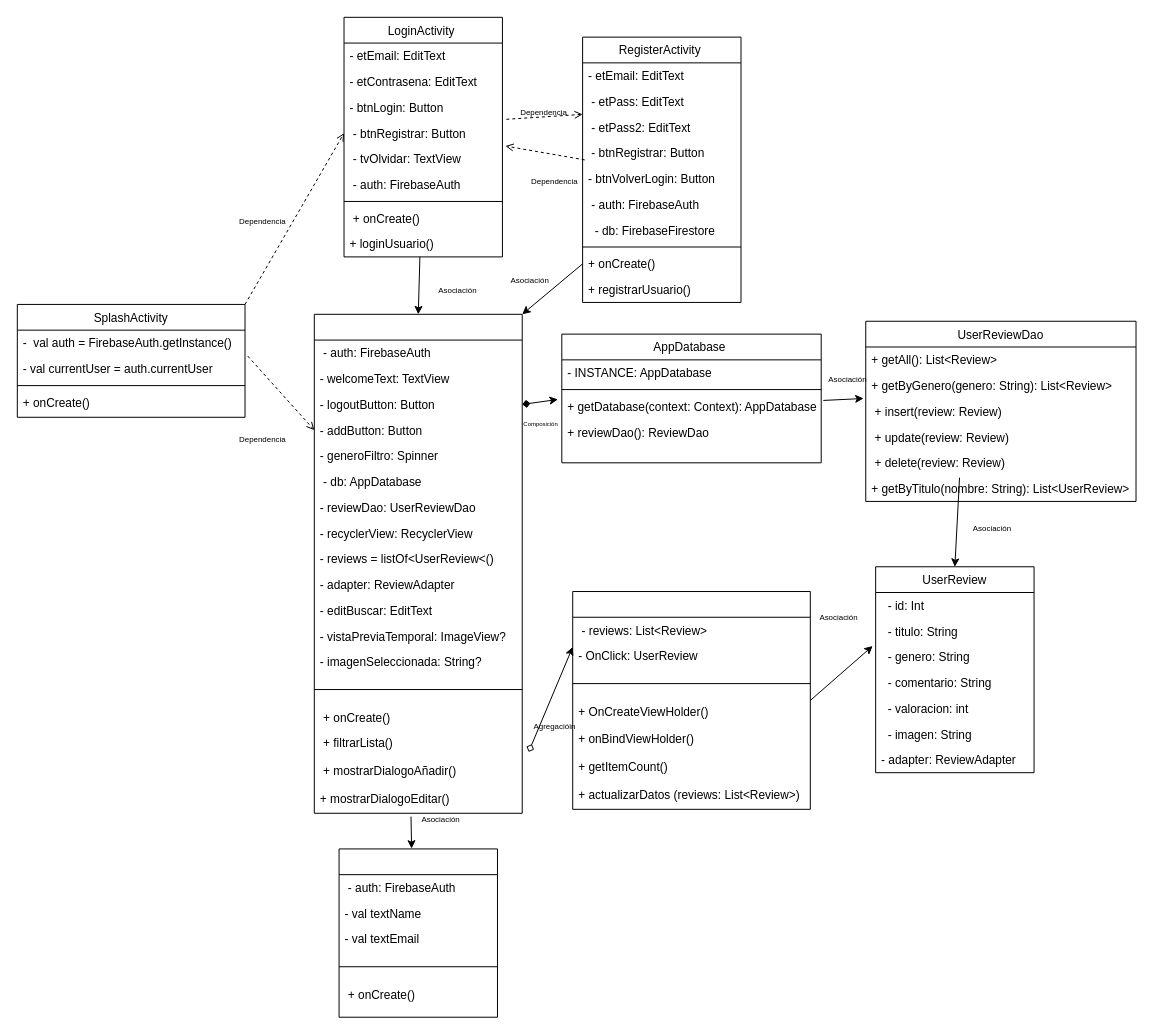
The diagram is 1153 pixels wide and 1035 high, and some of its shapes have lost their labels. Here are the shapes that lost their labels. From the top down, the box of each, then its label:
(313, 313, 522, 813): MainActivity
(572, 591, 810, 809): ReviewAdapter
(338, 848, 497, 1017): ProfileActivity
